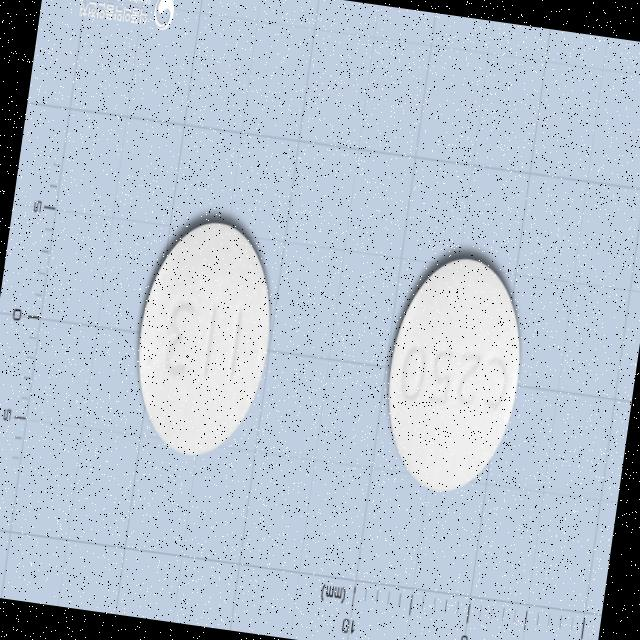Ciprofloxacin Hcl Tab- Ilyang: (116, 205, 290, 475), (368, 240, 535, 504)
